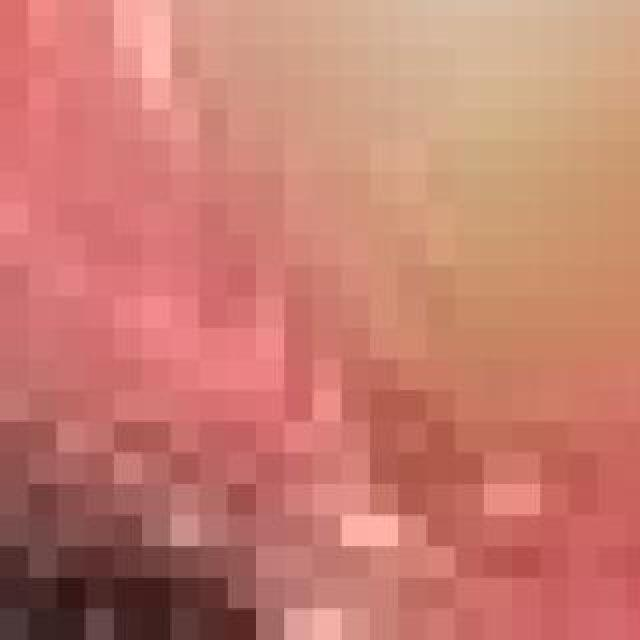cavities: (90, 0, 640, 14)
